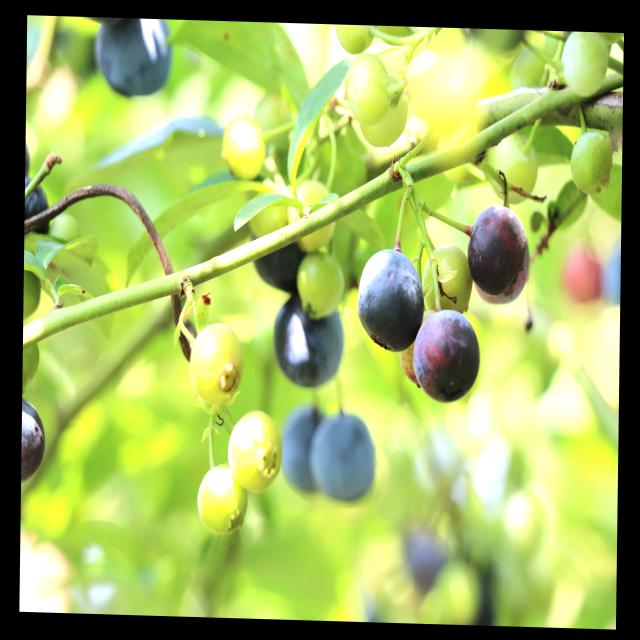blueberry: (353, 245, 424, 358), (306, 407, 384, 506), (270, 290, 344, 388), (93, 17, 176, 100), (413, 305, 480, 405), (465, 203, 527, 300), (276, 404, 330, 498), (251, 228, 310, 302), (21, 391, 51, 493), (24, 178, 56, 240)
blueberry-unripe: (185, 322, 246, 406), (227, 407, 285, 494), (196, 468, 250, 538), (486, 134, 536, 206), (560, 32, 614, 96), (422, 243, 472, 312), (294, 181, 340, 252), (298, 252, 348, 315), (222, 112, 268, 180), (344, 54, 391, 120), (569, 131, 614, 194), (365, 86, 407, 145)
